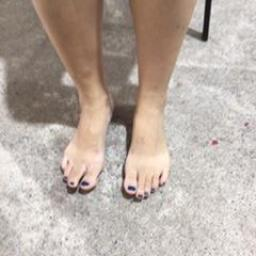Dorsal View -Both Feet-: (56, 62, 184, 200)
